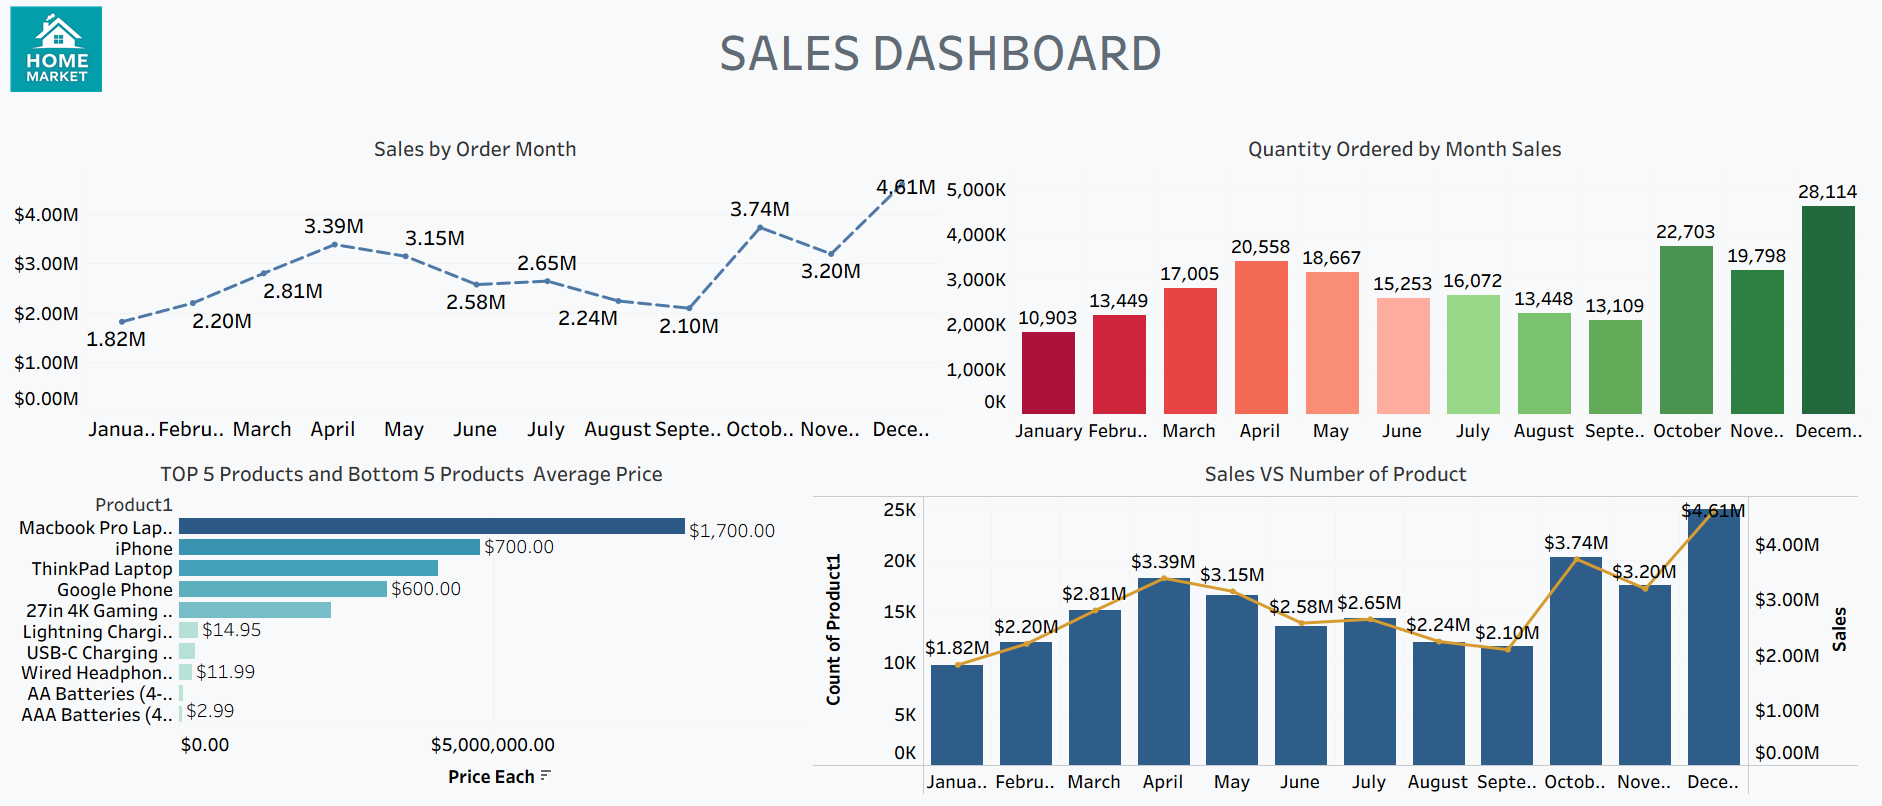

The dashboard page shown, as its layout file describes it:
{"tool":"tableau","page":{"name":"Dashboard 1","canvas":[1000,1000],"units":"permille","ordinal":0},"visuals":[{"type":"image","param":"Image/ChatGPT Image Aug 3, 2026, 07_43_34 PM.png","box":[5.6,7.4,56.4,106.7]},{"type":"title","box":[5,9.9,990.1,106.7]},{"type":"worksheet","title":"Sales by Order Month","mark":"Line","rows":["Sales"],"cols":["Order Date"],"box":[5.6,153.8,494.9,400.7]},{"type":"worksheet","title":"Quantity Ordered by Month Sales","mark":"Bar","rows":["Sales"],"cols":["Order Date"],"box":[500.5,153.8,491.9,400.7]},{"type":"worksheet","title":"TOP 5 Products and Bottom 5 Products  Average Price ","mark":"Automatic","rows":["Product"],"cols":["Price Each"],"box":[7.4,557.1,492.3,434.2]},{"type":"worksheet","title":"Sales VS Number of Product","mark":"Automatic","rows":["Product","Sales"],"cols":["Order Date"],"box":[499.7,557.1,490.4,434.2]}]}

Visuals, with their boxes on the dashboard's canvas, which has no fixed pixel size, in thousandths of its width and height (x1, y1, x2, y2). These are canvas units, not pixel positions in the 1882x806 screenshot, which may show the page scaled, cropped or inside an application window:
image: <region>6, 7, 62, 114</region>
title: <region>5, 10, 995, 117</region>
"Sales by Order Month" worksheet (Line marks): <region>6, 154, 500, 554</region>
"Quantity Ordered by Month Sales" worksheet (Bar marks): <region>500, 154, 992, 554</region>
"TOP 5 Products and Bottom 5 Products  Average Price " worksheet: <region>7, 557, 500, 991</region>
"Sales VS Number of Product" worksheet: <region>500, 557, 990, 991</region>
